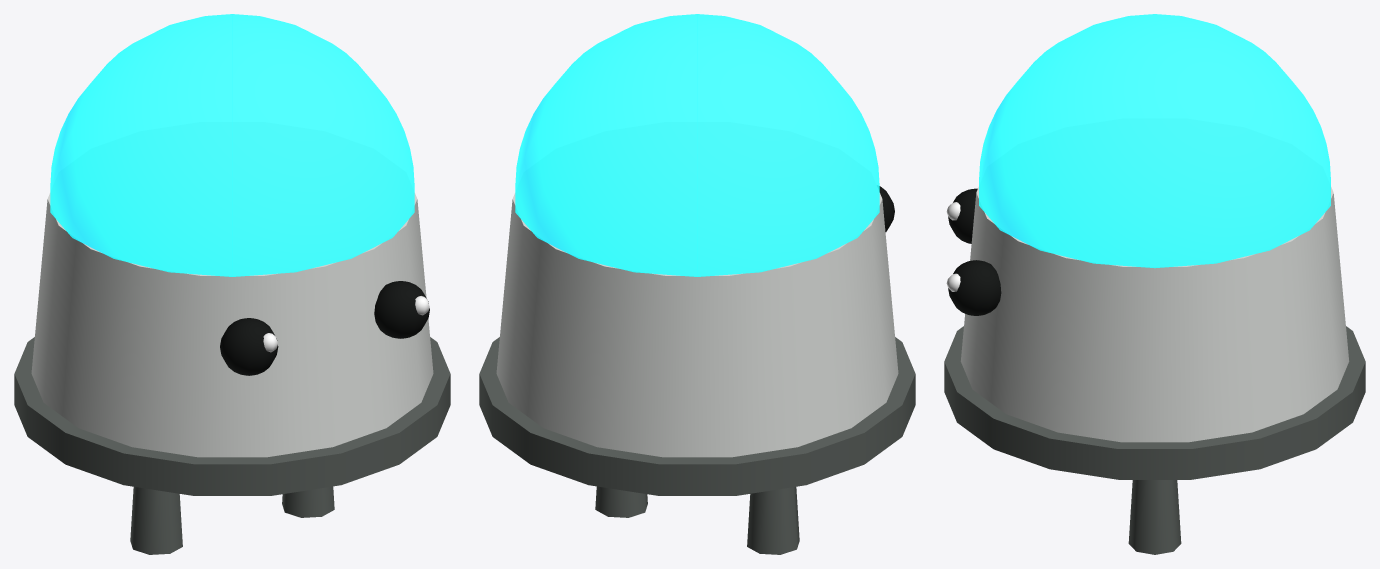
The model's file is led.glb.
3 renders of one model, left to right at view 1: azimuth 30°, elevation 25°; view 2: azimuth 150°, elevation 25°; view 3: azimuth 270°, elevation 25°, orthographic. The views are drawn at different scales.
Size of the model in its own units: 2.21 by 2.8 by 2.24.
